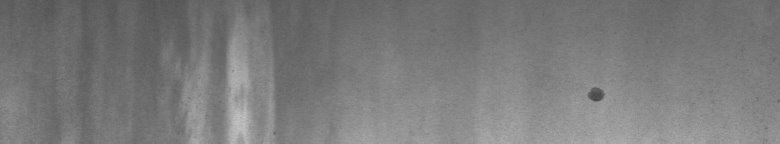fi: (584, 80, 609, 108)
